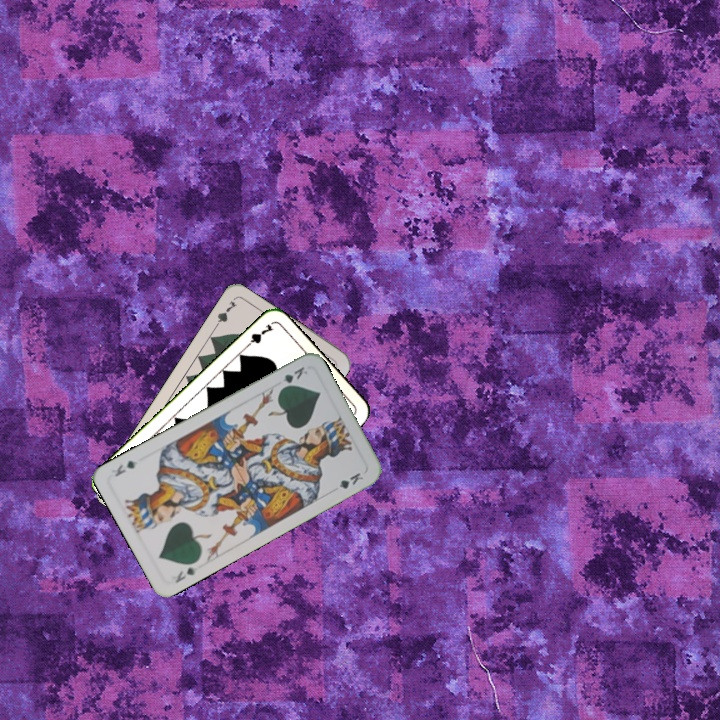G7: (241, 320, 276, 352), (209, 297, 240, 333)
GK: (276, 362, 310, 392), (171, 563, 200, 586)
